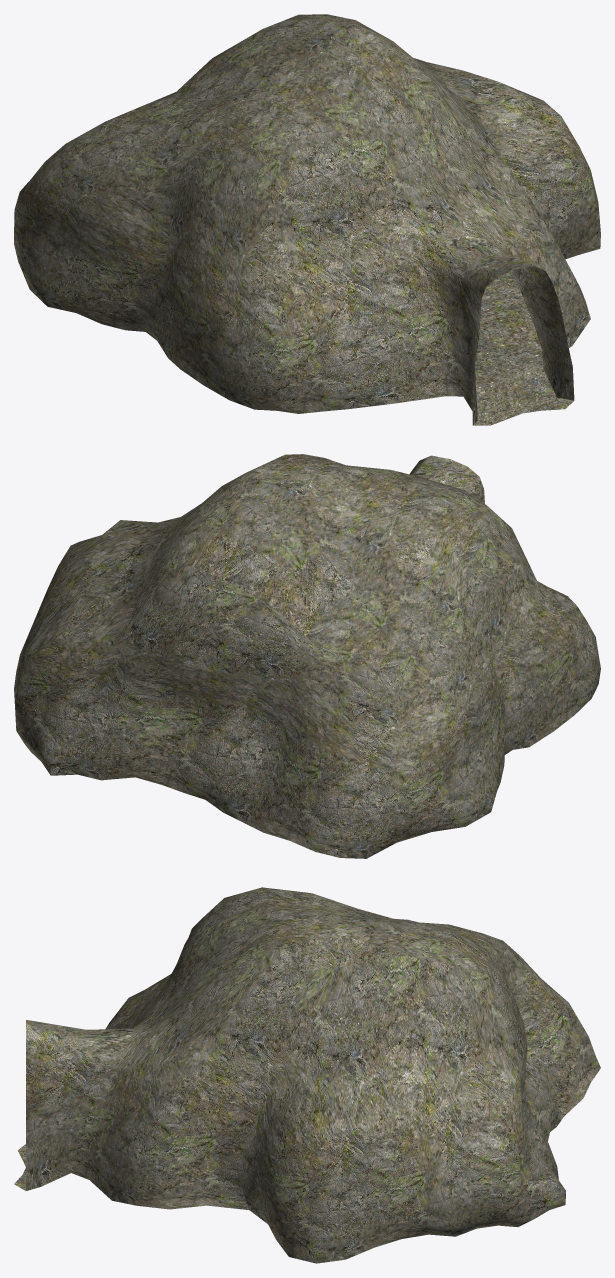
The model's file is poi_all_lair_cave_small_r1_mesh_r1.fbx.
The picture shows the model from 3 angles, top to bottom: view 1: azimuth 30°, elevation 25°; view 2: azimuth 150°, elevation 25°; view 3: azimuth 270°, elevation 25°; orthographic projection. The views are drawn at different scales.
Visible parts, largest first — view 1: mesh_node; view 2: mesh_node; view 3: mesh_node.
Part boxes in pixels (x1,y1,x2,y2): mesh_node: (14,14,600,425); mesh_node: (14,454,600,858); mesh_node: (14,887,600,1263).
Size of the model in its own units: 19.24 by 9.48 by 20.86.
